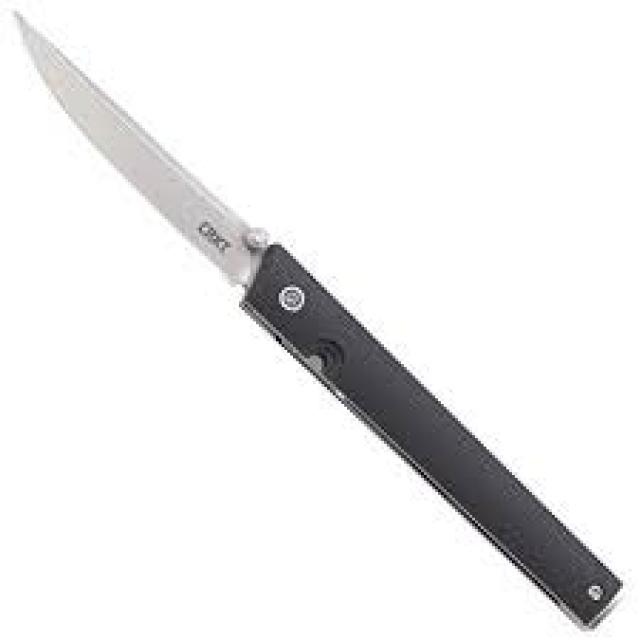knives: (6, 3, 626, 637)
